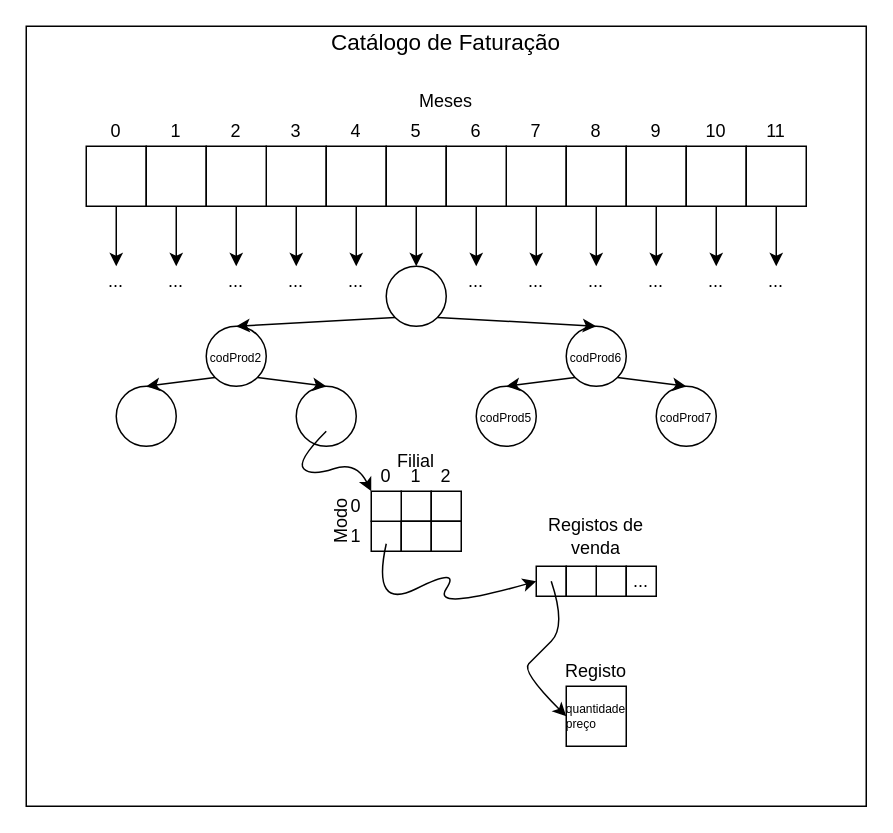
Some shapes in this 893 by 833 pixel diagram are drawn without their labels. Each missing label, with the centre of its shape:
"codProd1" goes at point (145, 415).
"codProd3" goes at point (325, 415).
"codProd4" goes at point (415, 295).
